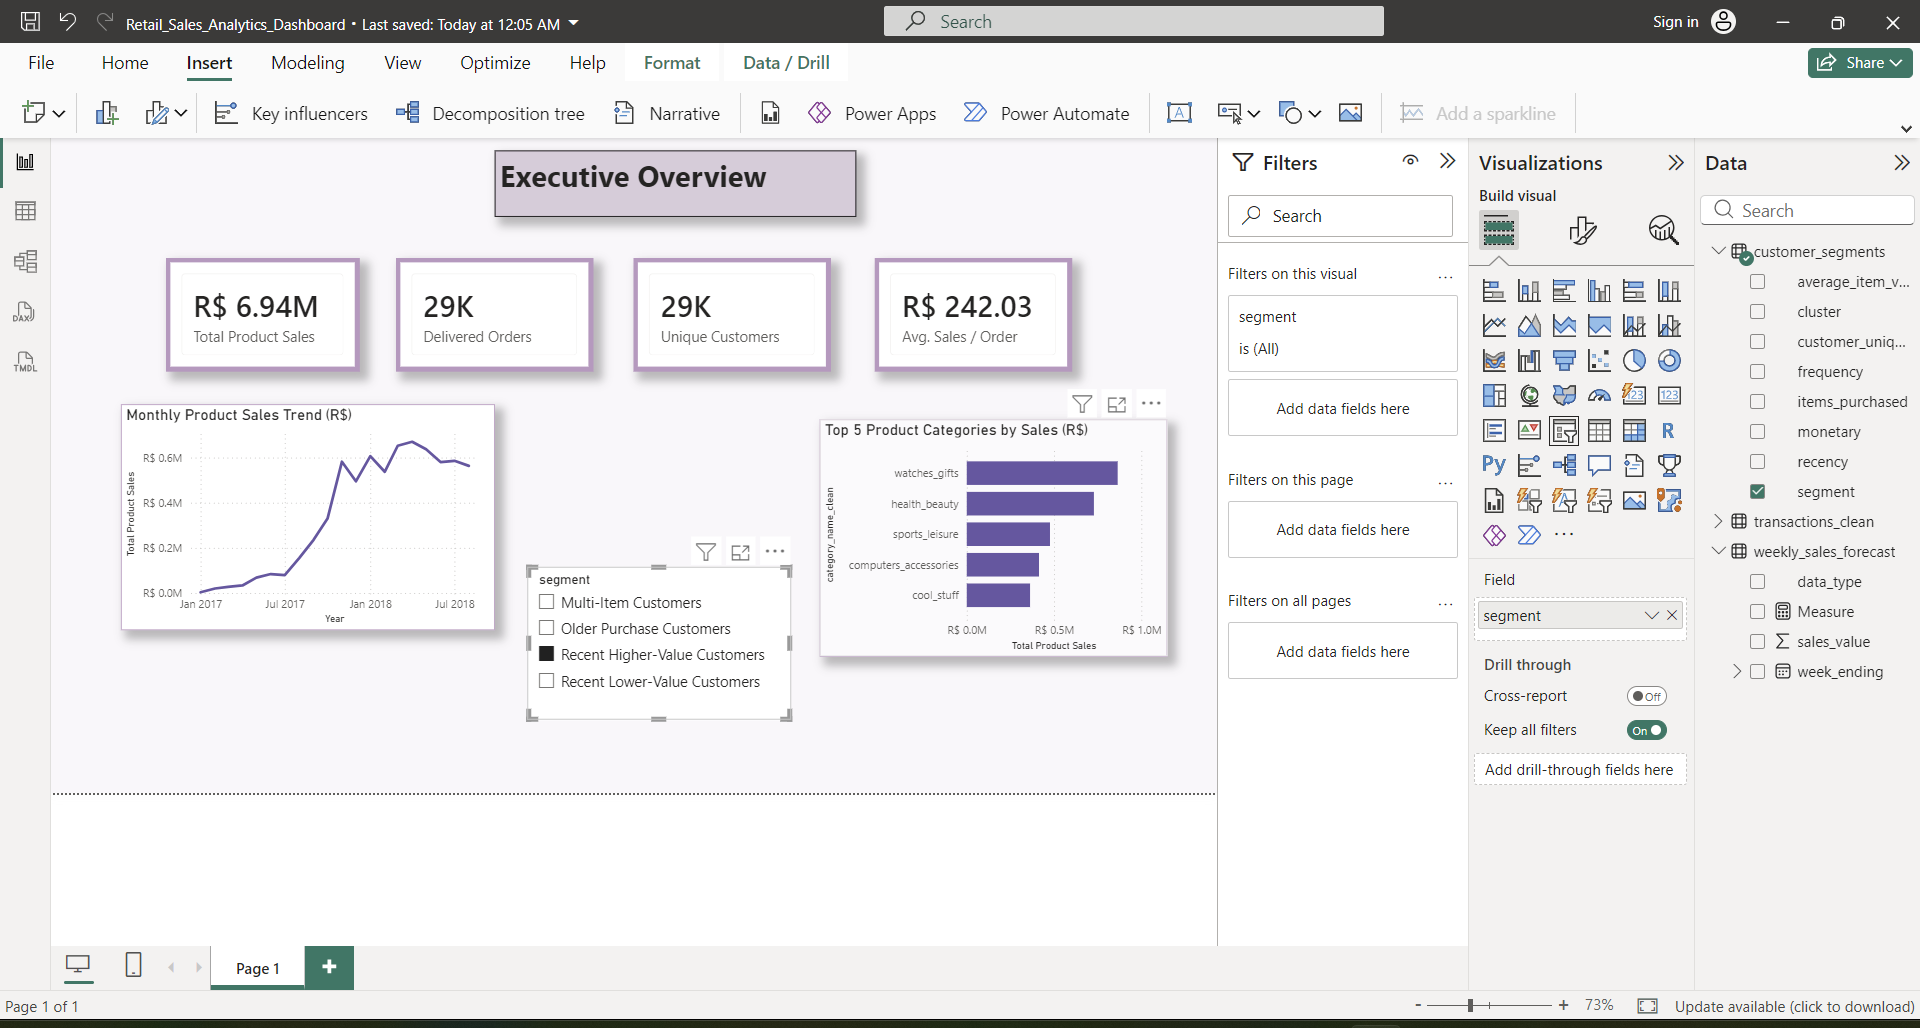

This screenshot's page, from the dashboard's own definition file:
{"tool":"powerbi","page":{"name":"Executive Overview","canvas":[1280,720],"ordinal":0},"visuals":[{"type":"cardVisual","fields":{"Data":["transactions_clean.Total Product Sales"]},"box":[126.2,131.7,212.7,124.9],"z":0},{"type":"cardVisual","fields":{"Data":["transactions_clean.Delivered Orders"]},"box":[378.7,131.7,216.8,124.9],"z":1000},{"type":"cardVisual","fields":{"Data":["transactions_clean.Unique Customers"]},"box":[639.5,131.7,216.8,124.9],"z":2000},{"type":"cardVisual","fields":{"Data":["transactions_clean.Average Sales per Order"]},"box":[904.3,131.7,216.8,124.9],"z":3000},{"type":"textbox","box":[487.1,13.7,396.6,72.7],"z":4000},{"type":"lineChart","title":"Monthly Product Sales Trend (R$)","fields":{"Y":["transactions_clean.Total Product Sales"],"Category":["transactions_clean.purchase_date.Variation.Date Hierarchy.Year","transactions_clean.purchase_date.Variation.Date Hierarchy.Month"]},"box":[61.7,354,410.3,248.4],"z":5000},{"type":"clusteredBarChart","title":"Top 5 Product Categories by Sales (R$)","fields":{"Category":["transactions_clean.category_name_clean"],"Y":["transactions_clean.Total Product Sales"]},"box":[522.8,354,381.5,248.4],"z":6000},{"type":"slicer","title":"Customer Segment.","fields":{"Values":["customer_segments.segment"]},"box":[977,277.2,289.5,168.8],"z":7000}]}

Visuals, with their boxes on the page's 1280x720 design canvas (x1, y1, x2, y2). These are canvas units, not pixel positions in the 1920x1028 screenshot, which may show the page scaled, cropped or inside an application window:
cardVisual - transactions_clean.Total Product Sales: locate(126, 132, 339, 257)
cardVisual - transactions_clean.Delivered Orders: locate(379, 132, 596, 257)
cardVisual - transactions_clean.Unique Customers: locate(640, 132, 856, 257)
cardVisual - transactions_clean.Average Sales per Order: locate(904, 132, 1121, 257)
textbox: locate(487, 14, 884, 86)
"Monthly Product Sales Trend (R$)" lineChart: locate(62, 354, 472, 602)
"Top 5 Product Categories by Sales (R$)" clusteredBarChart: locate(523, 354, 904, 602)
"Customer Segment." slicer: locate(977, 277, 1266, 446)
